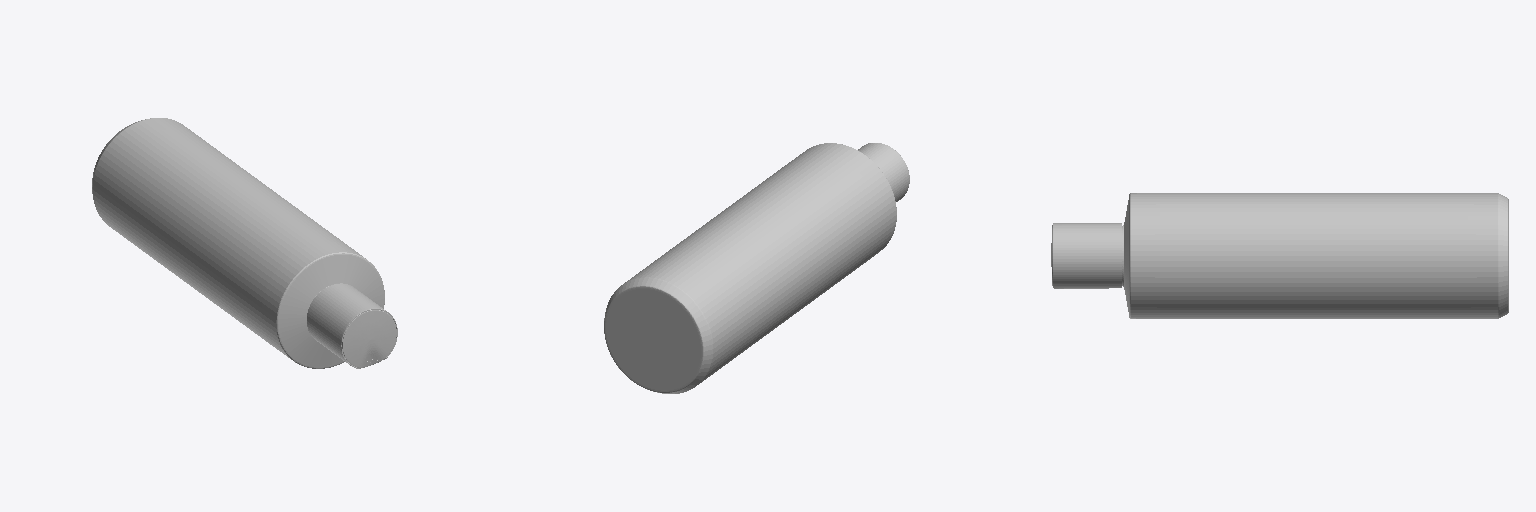
File: large1.obj
The picture shows the model from 3 angles: view 1: azimuth 30°, elevation 25°; view 2: azimuth 150°, elevation 25°; view 3: azimuth 270°, elevation 25°; orthographic projection.
Parts seen in each view (by area): view 1: etiketa, flaska, pokrovcek, stikalo_pokrovcek; view 2: etiketa, flaska, pokrovcek; view 3: etiketa, flaska, pokrovcek.
Boxes of the visible parts, x1=… form: etiketa: x1=108, y1=129, x2=347, y2=346; flaska: x1=92, y1=118, x2=384, y2=368; pokrovcek: x1=307, y1=283, x2=397, y2=368; stikalo_pokrovcek: x1=342, y1=310, x2=396, y2=367; etiketa: x1=640, y1=154, x2=881, y2=371; flaska: x1=604, y1=143, x2=896, y2=393; pokrovcek: x1=858, y1=143, x2=909, y2=201; etiketa: x1=1160, y1=193, x2=1467, y2=318; flaska: x1=1122, y1=193, x2=1508, y2=318; pokrovcek: x1=1053, y1=223, x2=1121, y2=288.
Bounding box in the file's own units: 0.4906 × 0.4905 × 1.78.